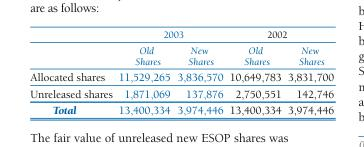table: (29, 28, 333, 116)
table column: (29, 28, 114, 116), (114, 28, 173, 116), (225, 28, 283, 116), (173, 28, 225, 116), (283, 28, 333, 116)
table column header: (29, 28, 333, 68)
table row: (29, 42, 333, 68), (29, 68, 333, 85), (29, 85, 333, 101), (29, 101, 333, 116), (29, 28, 333, 42)
table spanning cell: (114, 28, 225, 42), (225, 28, 333, 42)
